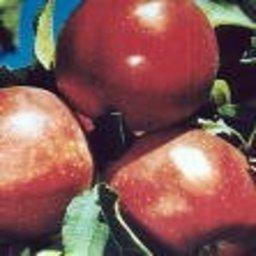apple: (51, 1, 222, 137), (107, 132, 256, 256), (1, 87, 92, 244)
